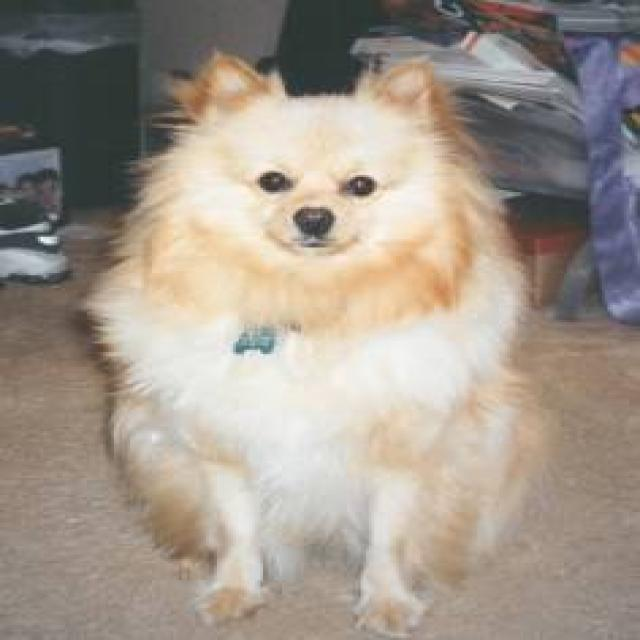dog-pomeranian: (87, 51, 515, 634)
